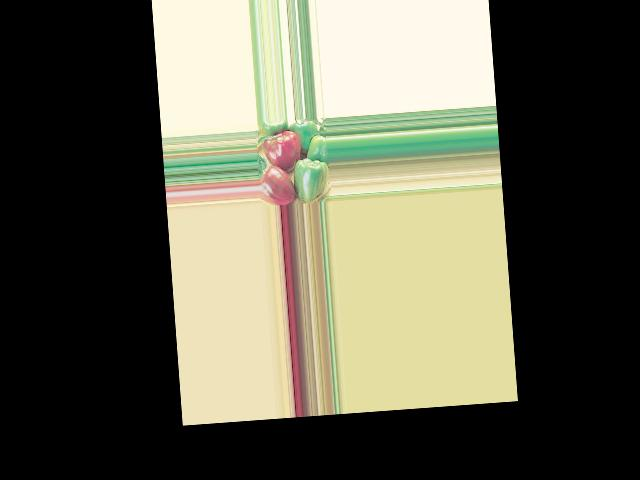bell_pepper: (259, 164, 294, 206)
